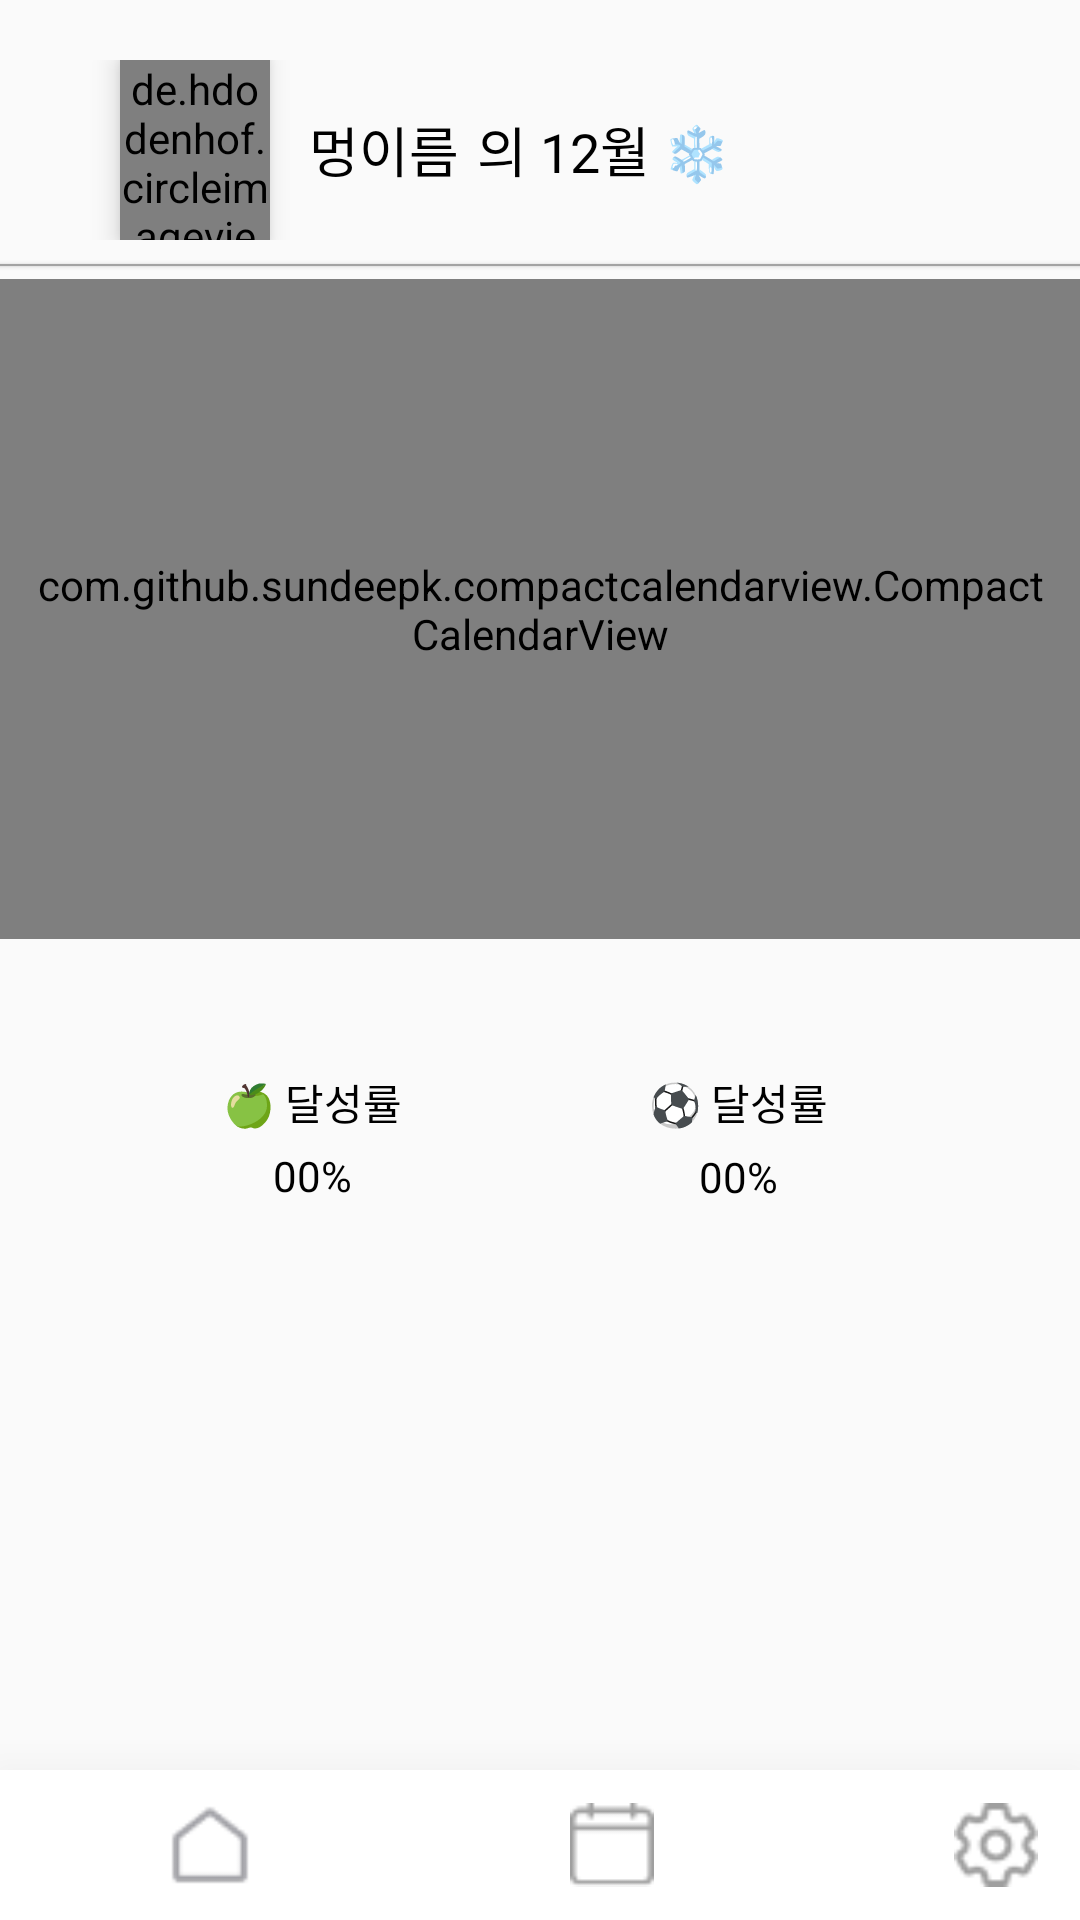

Icons on this 1080px×1920px Android screen, each with the point to tap as (x,y):
calendar event: (612,1844)
home event: (210,1845)
setting event: (996,1845)
